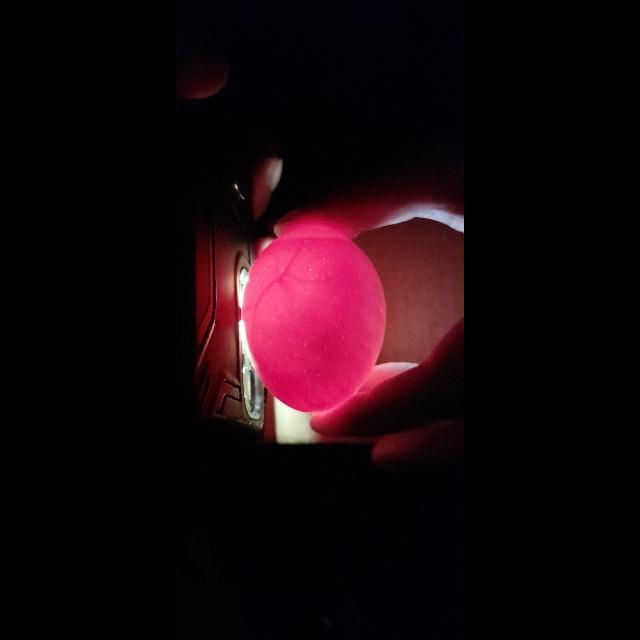Fertile: (239, 215, 385, 418)
